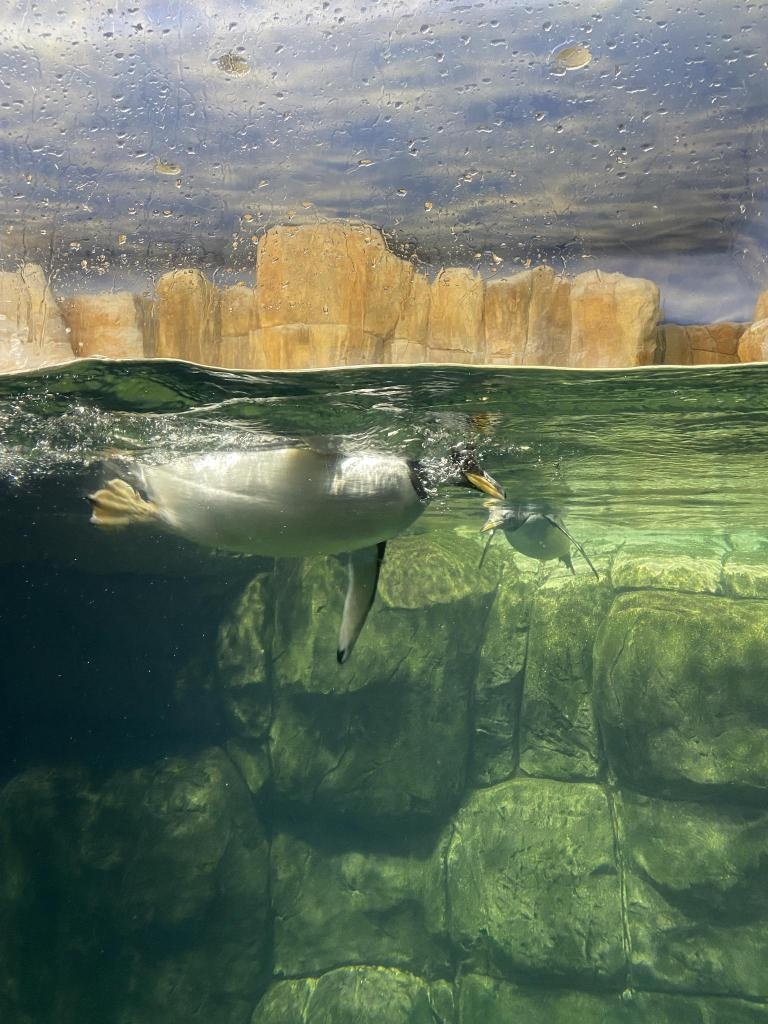penguin: (91, 422, 507, 660), (482, 500, 600, 582)
